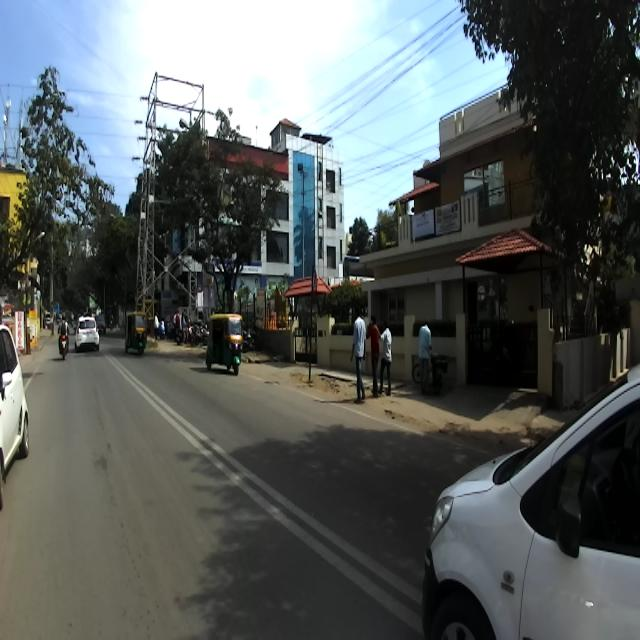auto ahead at: (202, 310, 246, 381)
car ahead at: (426, 359, 639, 640)
person ahead at: (348, 306, 370, 411)
